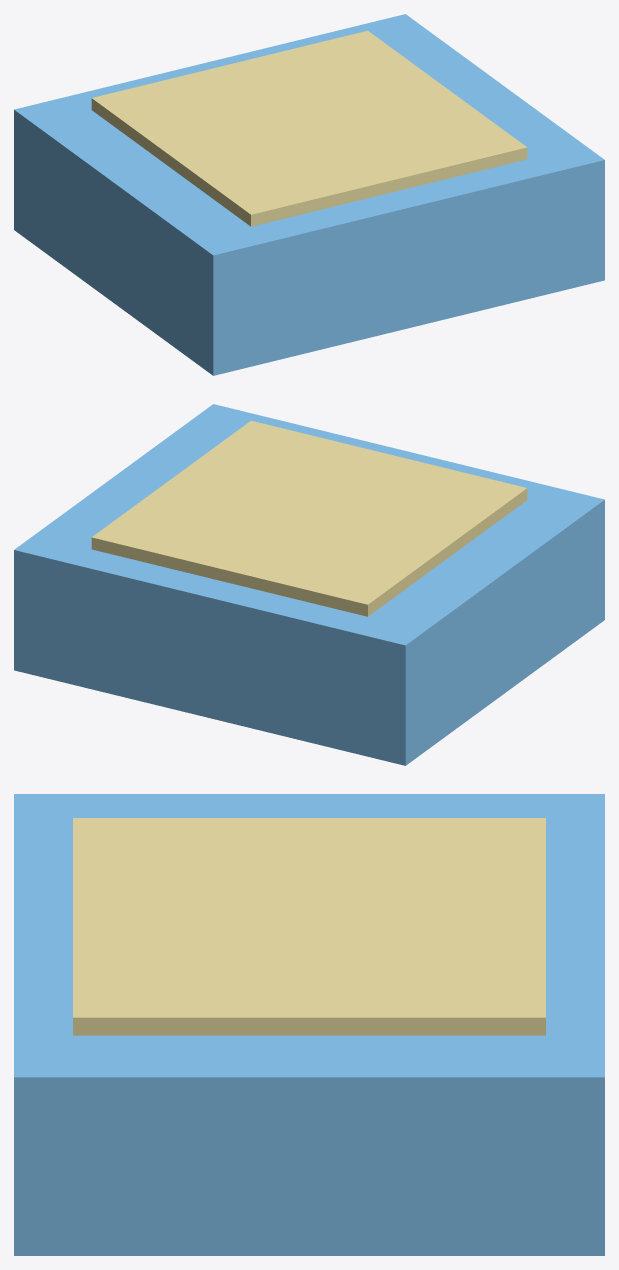
File: Prop_Pet_AMF_Bowl_V12.glb
3 views of the same model, one above another, from view 1: azimuth 30°, elevation 25°; view 2: azimuth 150°, elevation 25°; view 3: azimuth 270°, elevation 25° (orthographic). The views are drawn at different scales.
Parts seen in each view (by area): view 1: Prop_Pet_AMF_Bowl_V12; view 2: Prop_Pet_AMF_Bowl_V12; view 3: Prop_Pet_AMF_Bowl_V12.
Boxes of the visible parts, x1,y1,x2,y2 form: Prop_Pet_AMF_Bowl_V12: [14, 14, 604, 375]; Prop_Pet_AMF_Bowl_V12: [14, 404, 604, 765]; Prop_Pet_AMF_Bowl_V12: [14, 794, 604, 1255].
Size of the model in its own units: 0.3402 by 0.11 by 0.3.
